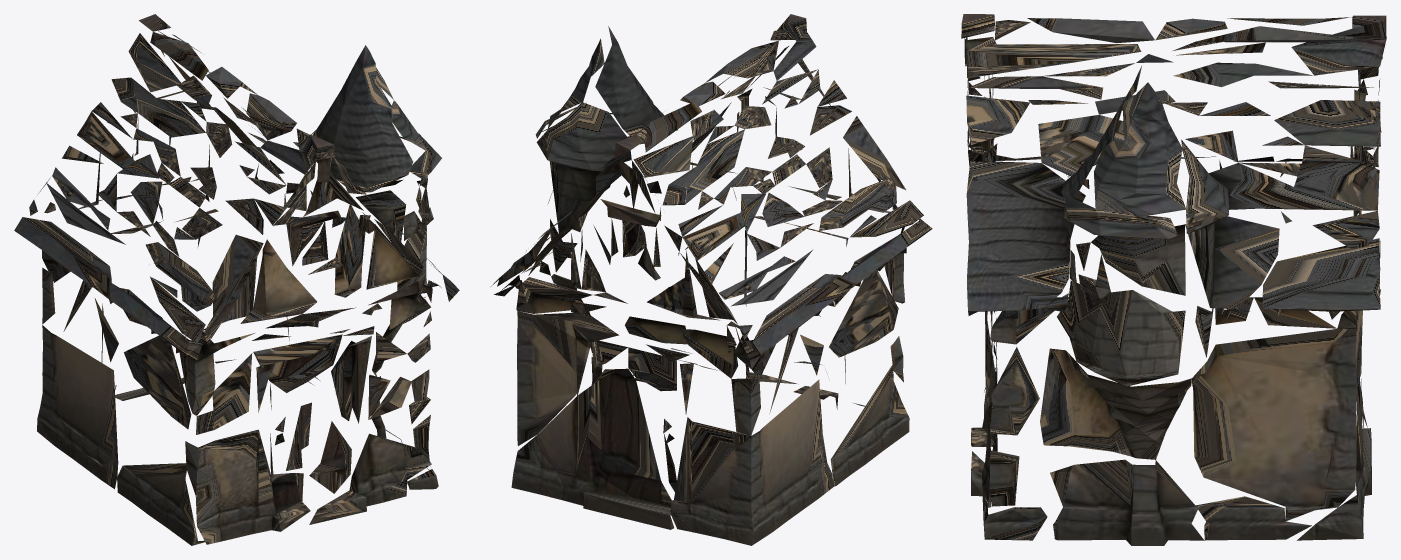
The model's file is bld_house_npc_e_a_LOD2.glb.
The picture shows the model from 3 angles, left to right: view 1: azimuth 30°, elevation 25°; view 2: azimuth 150°, elevation 25°; view 3: azimuth 270°, elevation 25°; orthographic projection. The views are drawn at different scales.
Visible parts, largest first — view 1: geometry_0; view 2: geometry_0; view 3: geometry_0.
Part boxes in pixels (left/top/right/bottom): geometry_0: left=14, top=14, right=459, bottom=545; geometry_0: left=491, top=14, right=932, bottom=545; geometry_0: left=961, top=14, right=1386, bottom=545.
Bounding box in the file's own units: 4.98 × 6 × 4.89.
Materials: 1 (1 with a texture image).
